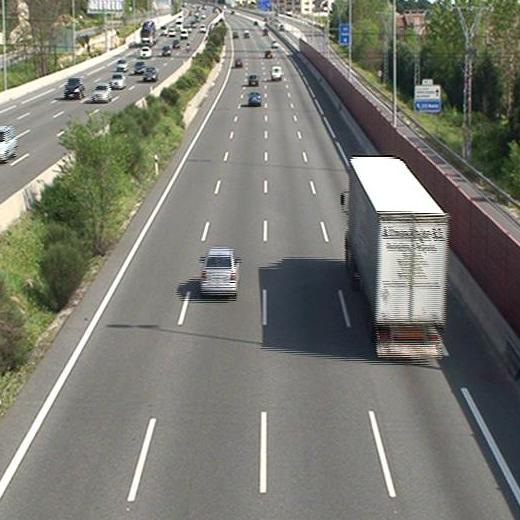car: (202, 248, 238, 296), (248, 92, 261, 106), (247, 74, 259, 85), (234, 58, 242, 67)
truck: (344, 158, 447, 356)
van: (271, 65, 282, 80)
